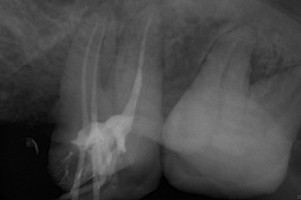Endo-Periodontal Lesion: (249, 47, 291, 85)
Furcation Involvement: (81, 0, 174, 44)
